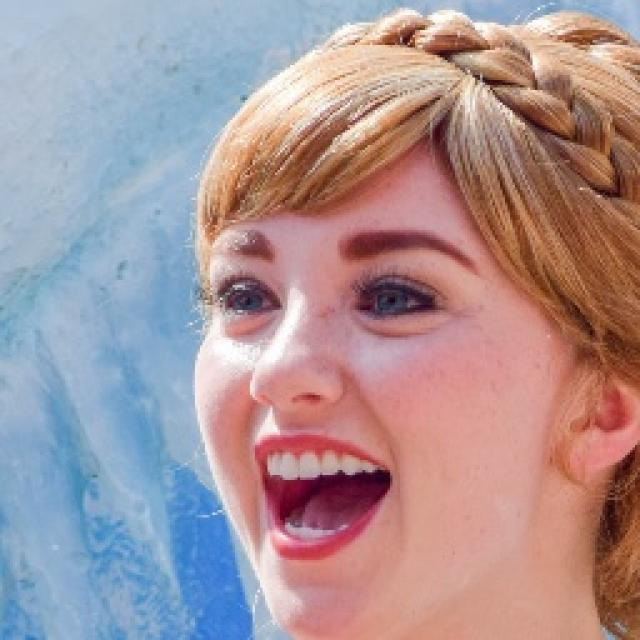earlobe: (556, 352, 640, 488)
